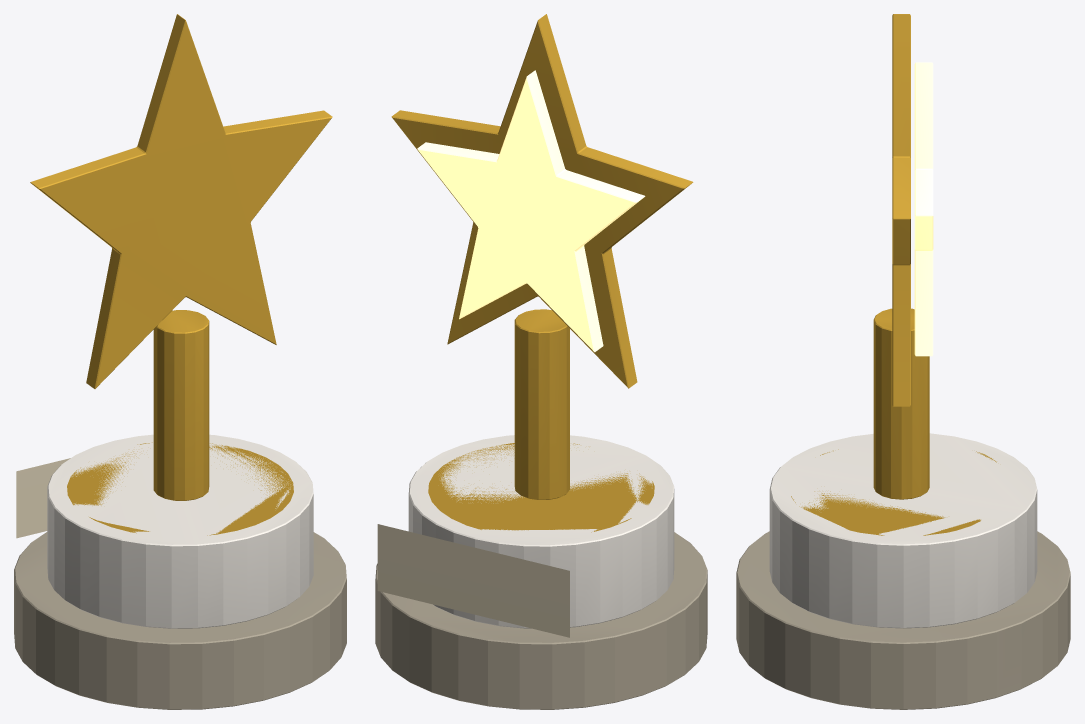
Rendered from trophy_star.glb.
The picture shows the model from 3 angles, left to right: view 1: azimuth 30°, elevation 25°; view 2: azimuth 150°, elevation 25°; view 3: azimuth 270°, elevation 25°; orthographic projection.
Parts seen in each view (by area): view 1: common_pedestal, symbol, trophy_plate; view 2: common_pedestal, symbol, trophy_plate; view 3: common_pedestal, symbol.
Boxes of the visible parts, box(x1,y1,x2,y2) form: common_pedestal: box(14, 434, 346, 709); symbol: box(30, 14, 332, 500); trophy_plate: box(16, 458, 70, 538); common_pedestal: box(375, 435, 707, 709); symbol: box(391, 14, 693, 499); trophy_plate: box(377, 524, 569, 637); common_pedestal: box(736, 433, 1070, 709); symbol: box(873, 14, 933, 499).
Bounding box in the file's own units: 0.9164 × 1.86 × 0.9.
